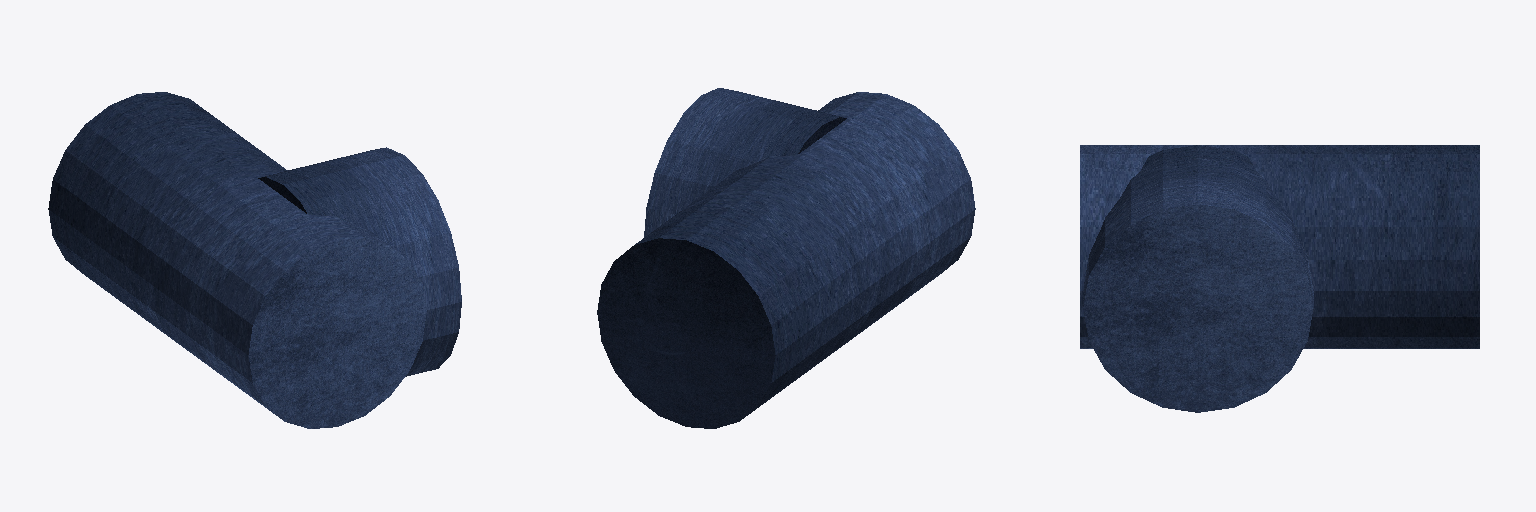
3 renders of one model, left to right at view 1: azimuth 30°, elevation 25°; view 2: azimuth 150°, elevation 25°; view 3: azimuth 270°, elevation 25°, orthographic.
Parts seen in each view (by area): view 1: pCylinder5, pCylinder10; view 2: pCylinder5, pCylinder10; view 3: pCylinder10, pCylinder5.
Boxes of the visible parts, box(x1,y1,x2,y2) form: pCylinder5: box(48, 92, 426, 428); pCylinder10: box(258, 147, 461, 376); pCylinder5: box(597, 92, 975, 428); pCylinder10: box(644, 88, 846, 237); pCylinder10: box(1083, 145, 1313, 412); pCylinder5: box(1080, 145, 1479, 348).
Bounding box in the file's own units: 13.8 × 12.79 × 22.21.
1 materials, 1 textured.